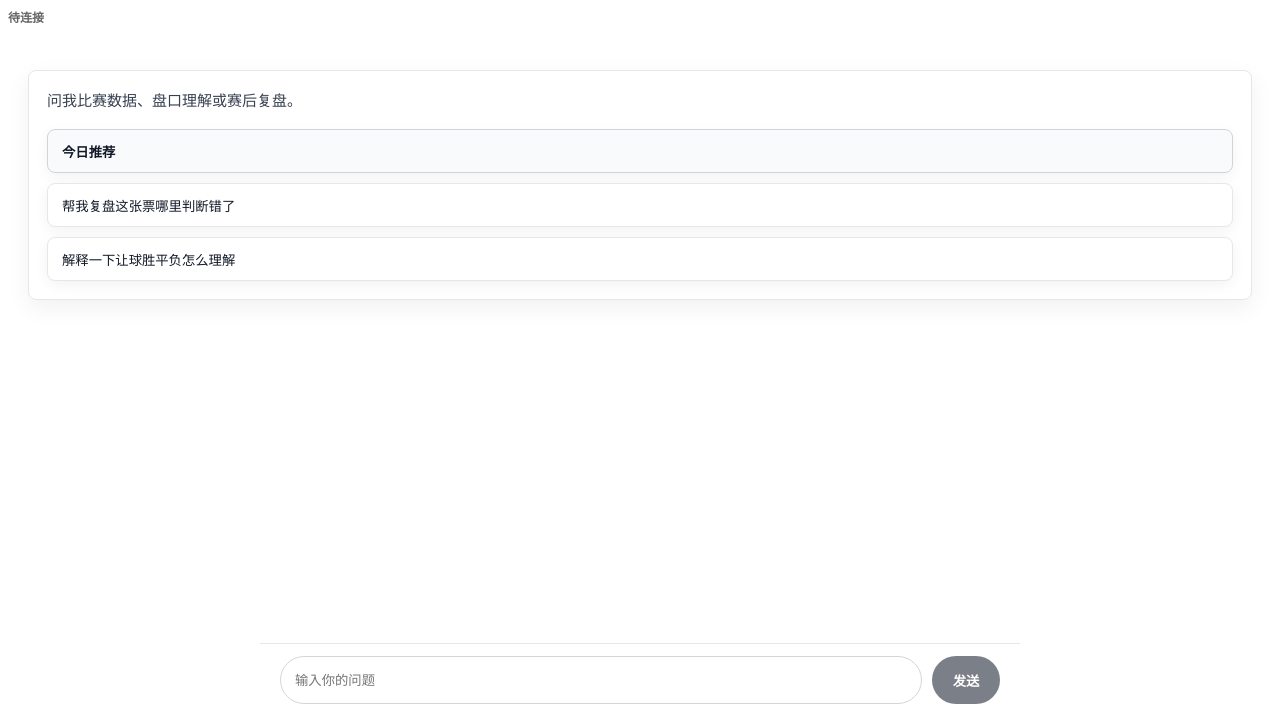
Test: ChatPage › sends a prompt and appends streamed answer
The width and height of the screenshot is (1280, 720).
Click the button "今日推荐": (89, 152) [47, 129, 1233, 173]
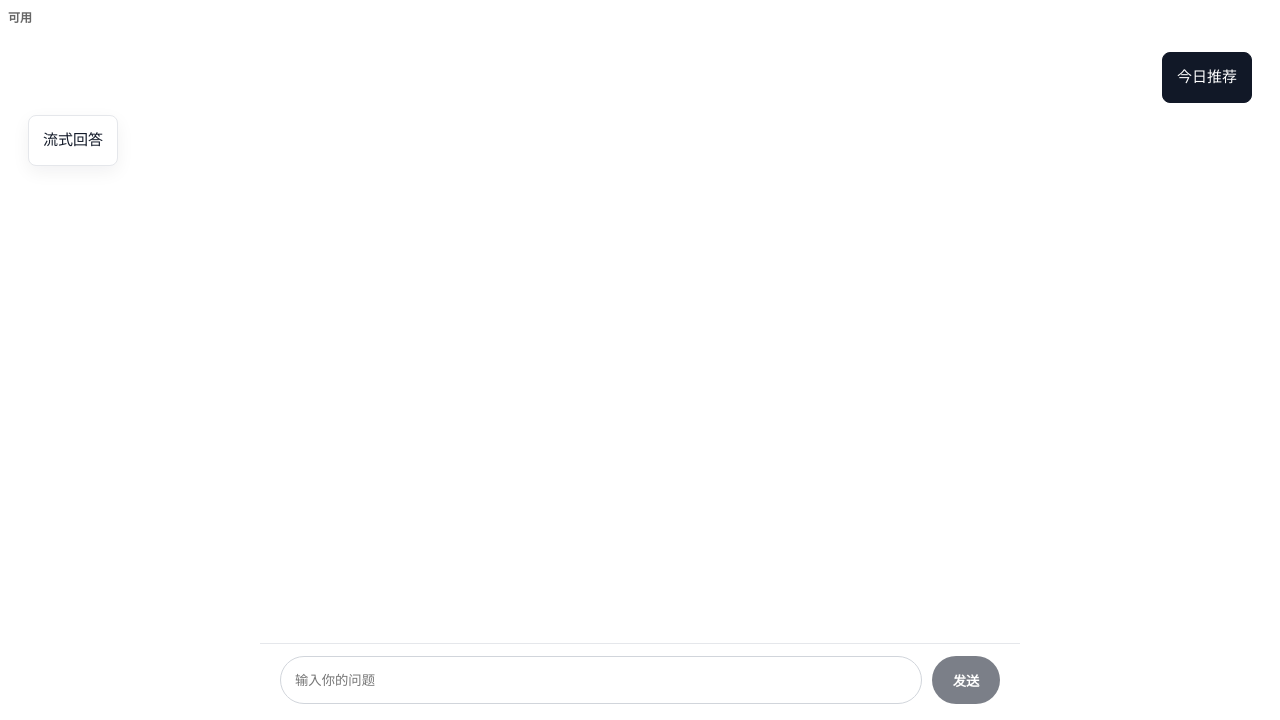
Expected: the text "今日推荐" is shown, [1162, 52, 1252, 103]
Expected: the text "流式回答" is shown, [43, 128, 103, 153]
